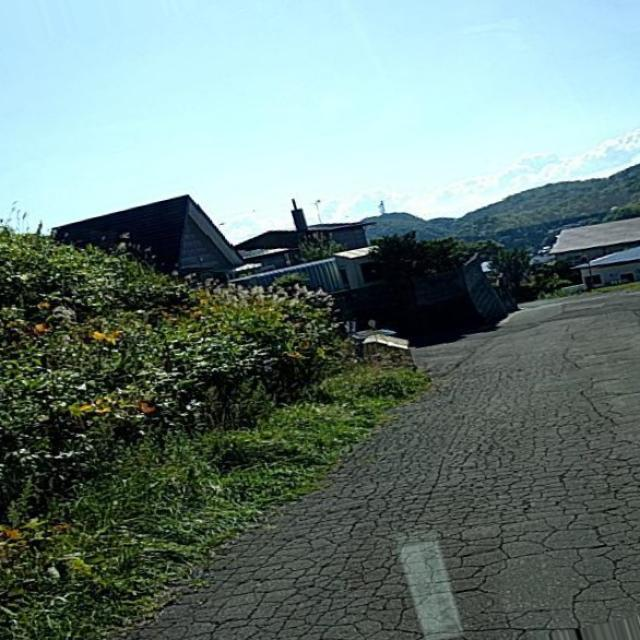Retak Buaya: (126, 366, 640, 640)
